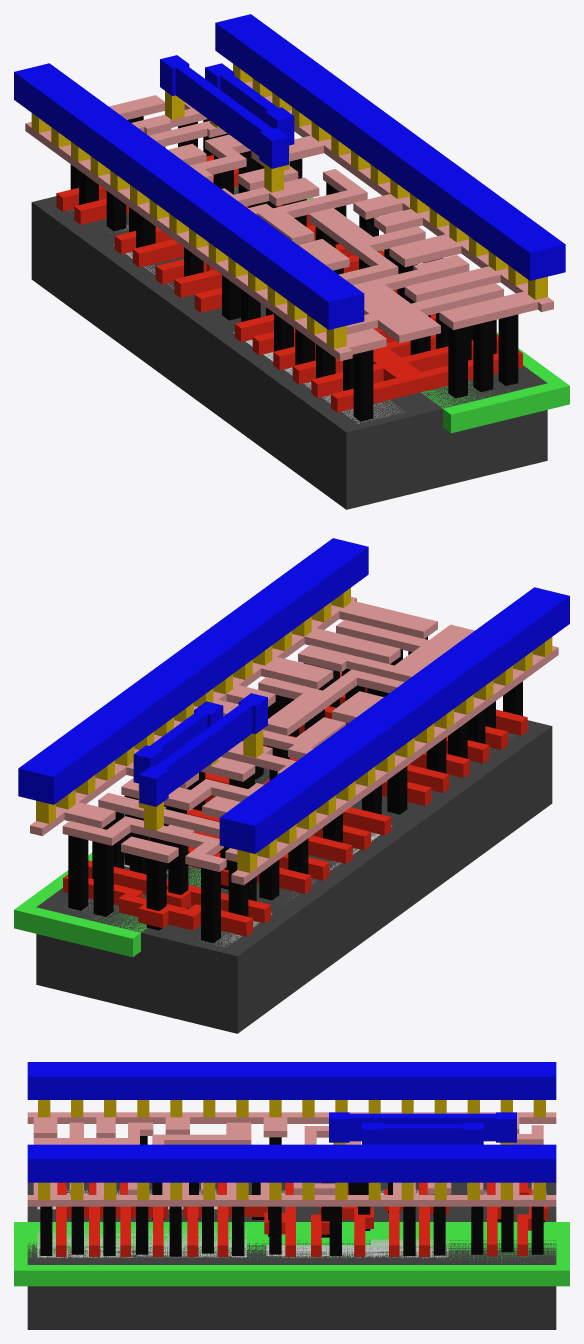
The model's file is sky130_fd_sc_hd__dlrtn_4.obj.
3 renders of one model, top to bottom at view 1: azimuth 30°, elevation 25°; view 2: azimuth 150°, elevation 25°; view 3: azimuth 270°, elevation 25°, orthographic. The views are drawn at different scales.
Parts seen in each view (by area): view 1: metal1, subs, li, licon, poly, mcon, nwell, diff; view 2: metal1, subs, li, licon, poly, mcon, nwell; view 3: metal1, subs, nwell, li, licon, poly, mcon, tap.
Part boxes in pixels (x1=…): metal1: x1=14, y1=14, x2=565, y2=329; subs: x1=31, y1=186, x2=547, y2=509; li: x1=25, y1=81, x2=553, y2=361; licon: x1=70, y1=116, x2=518, y2=421; poly: x1=56, y1=155, x2=522, y2=412; mcon: x1=31, y1=64, x2=547, y2=348; nwell: x1=234, y1=188, x2=569, y2=433; diff: x1=68, y1=210, x2=404, y2=423; metal1: x1=18, y1=538, x2=569, y2=853; subs: x1=36, y1=720, x2=552, y2=1033; li: x1=30, y1=597, x2=558, y2=885; licon: x1=68, y1=636, x2=522, y2=942; poly: x1=63, y1=672, x2=527, y2=936; mcon: x1=36, y1=588, x2=552, y2=872; nwell: x1=14, y1=672, x2=340, y2=957; metal1: x1=27, y1=1062, x2=556, y2=1182; subs: x1=27, y1=1182, x2=556, y2=1329; nwell: x1=14, y1=1222, x2=569, y2=1286; li: x1=27, y1=1112, x2=556, y2=1206; licon: x1=40, y1=1136, x2=544, y2=1256; poly: x1=56, y1=1182, x2=548, y2=1256; mcon: x1=38, y1=1100, x2=545, y2=1199; tap: x1=37, y1=1228, x2=448, y2=1257.
Size of the model in its own units: 3.2 by 2.74 by 7.74.
